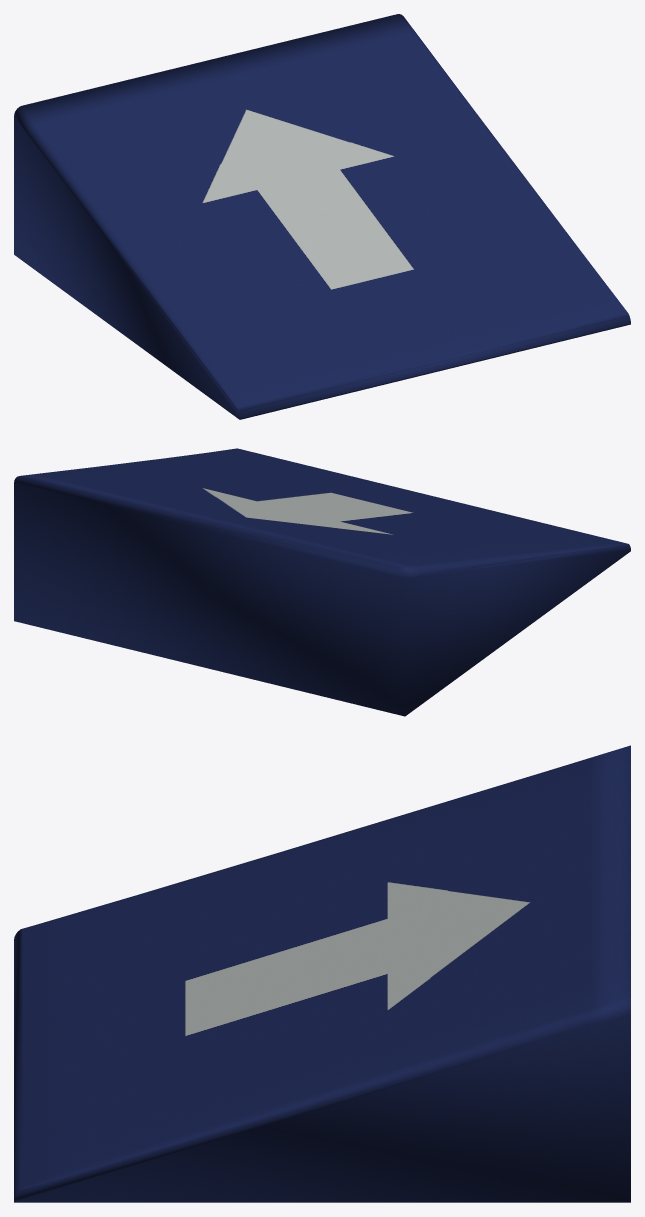
File: ramp.gltf
3 renders of one model, top to bottom at view 1: azimuth 30°, elevation 25°; view 2: azimuth 150°, elevation 25°; view 3: azimuth 270°, elevation 25°, orthographic. The views are drawn at different scales.
Visible parts, largest first — view 1: Cube.001; view 2: Cube.001; view 3: Cube.001.
Boxes of the visible parts, x1,y1,x2,y2 form: Cube.001: (14, 14, 630, 419); Cube.001: (14, 448, 630, 716); Cube.001: (14, 745, 630, 1202).
Size of the model in its own units: 11.11 by 3.99 by 11.11.
Materials: 1 (1 with a texture image).
